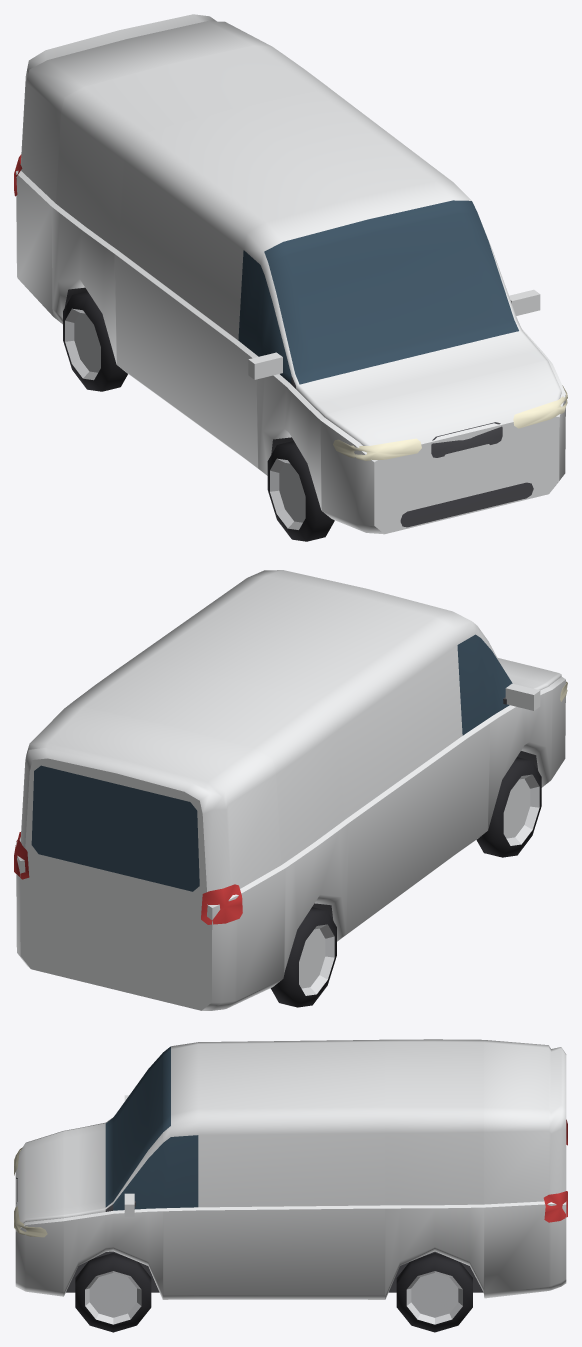
3 renders of one model, top to bottom at view 1: azimuth 30°, elevation 25°; view 2: azimuth 150°, elevation 25°; view 3: azimuth 270°, elevation 25°, orthographic. The views are drawn at different scales.
Parts seen in each view (by area): view 1: 366; view 2: 366; view 3: 366.
Boxes of the visible parts, x1,y1,x2,y2 form: 366: (14,14,567,541); 366: (14,570,567,1010); 366: (14,1039,567,1332).
Size of the model in its own units: 2.07 by 1.91 by 4.43.
